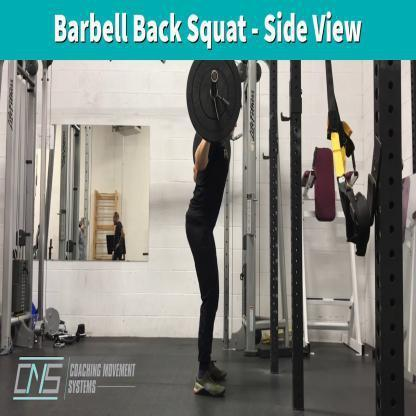Barbell: (210, 68, 223, 87)
